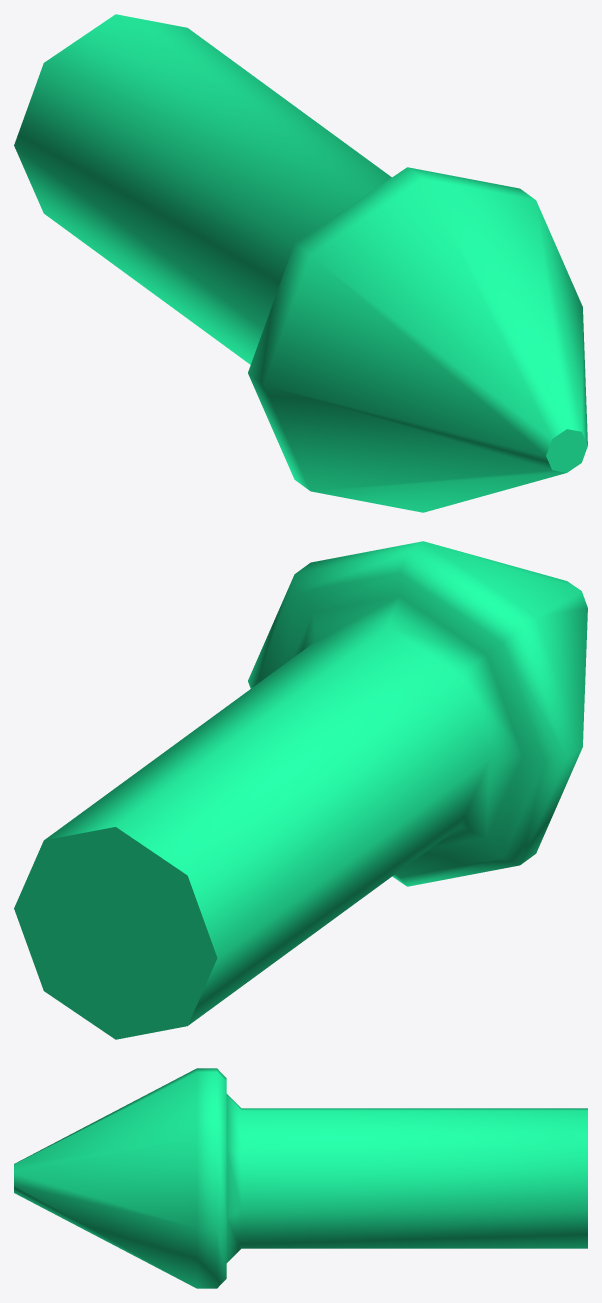
The model's file is arrowSelected.fbx.
3 renders of one model, top to bottom at view 1: azimuth 30°, elevation 25°; view 2: azimuth 150°, elevation 25°; view 3: azimuth 270°, elevation 25°, orthographic. The views are drawn at different scales.
Visible parts, largest first — view 1: arrowSelected; view 2: arrowSelected; view 3: arrowSelected.
Boxes of the visible parts, x1,y1,x2,y2 form: arrowSelected: (14,14,587,512); arrowSelected: (14,541,587,1039); arrowSelected: (14,1068,587,1288).
Bounding box in the file's own units: 25.34 × 25.34 × 62.09.
